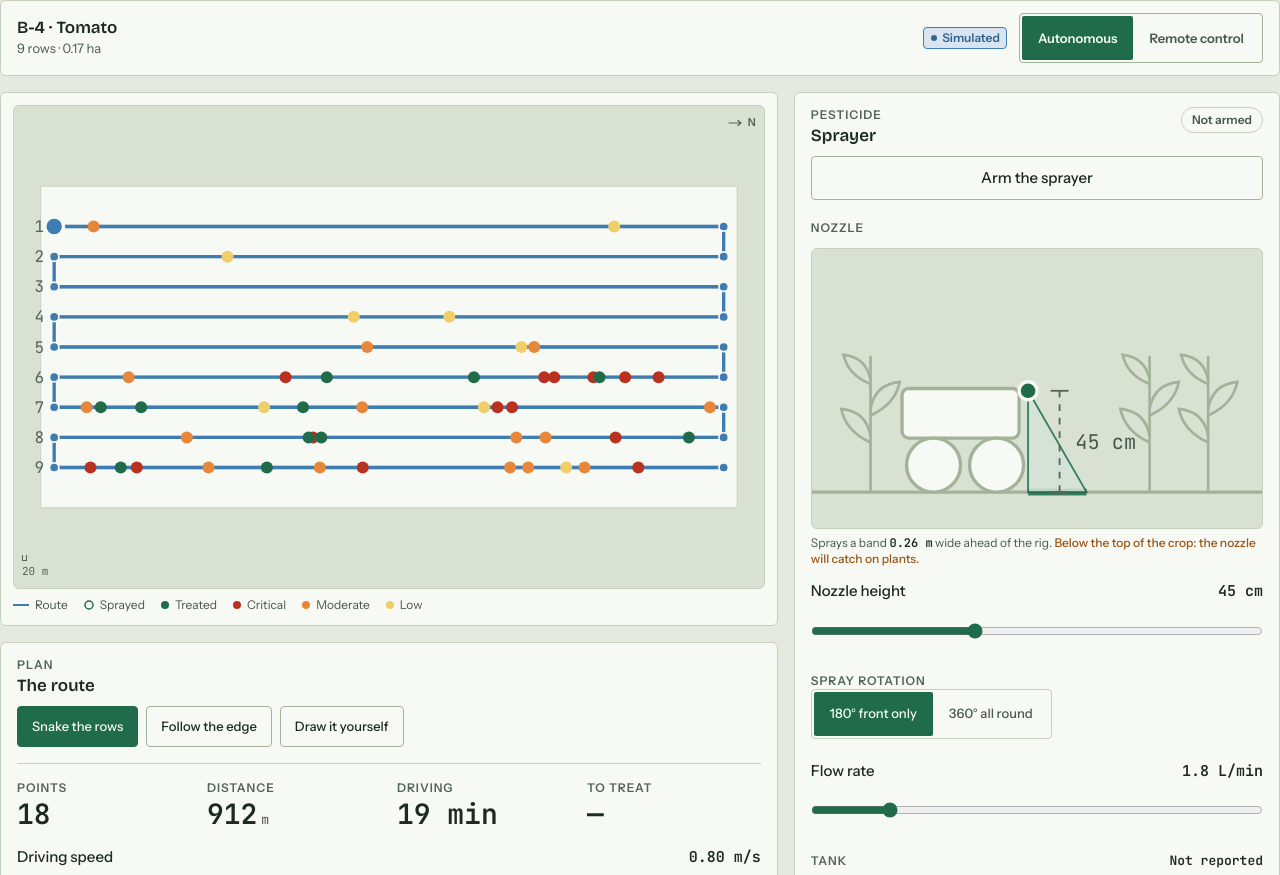
Test: MissionWorkspace › switches to a perimeter lap without touching the field geometry
Click the button "Follow the edge". click: (209, 726)
box: left=146, top=706, right=272, bottom=747
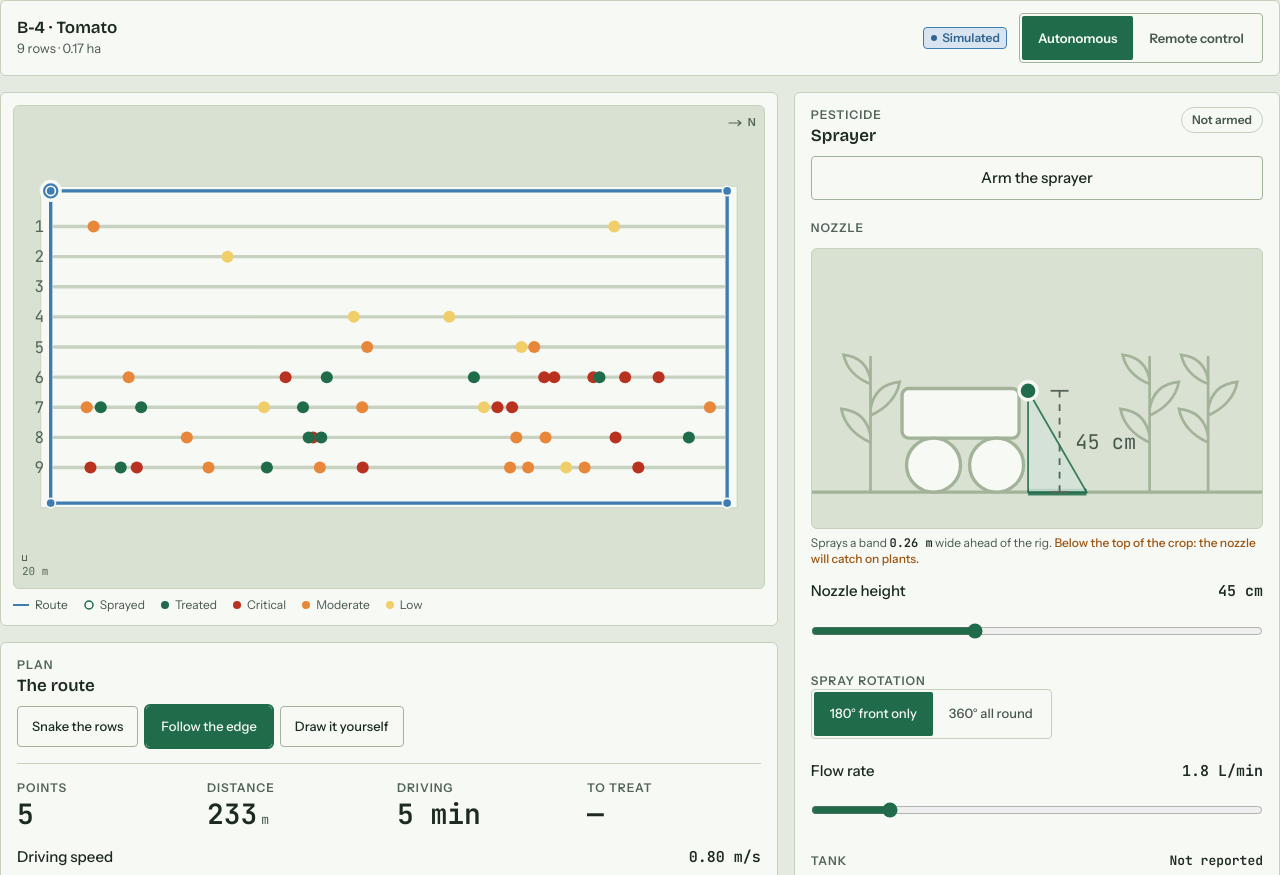
Now the picture named "route of 5 points" is shown, box left=14, top=106, right=764, bottom=588
